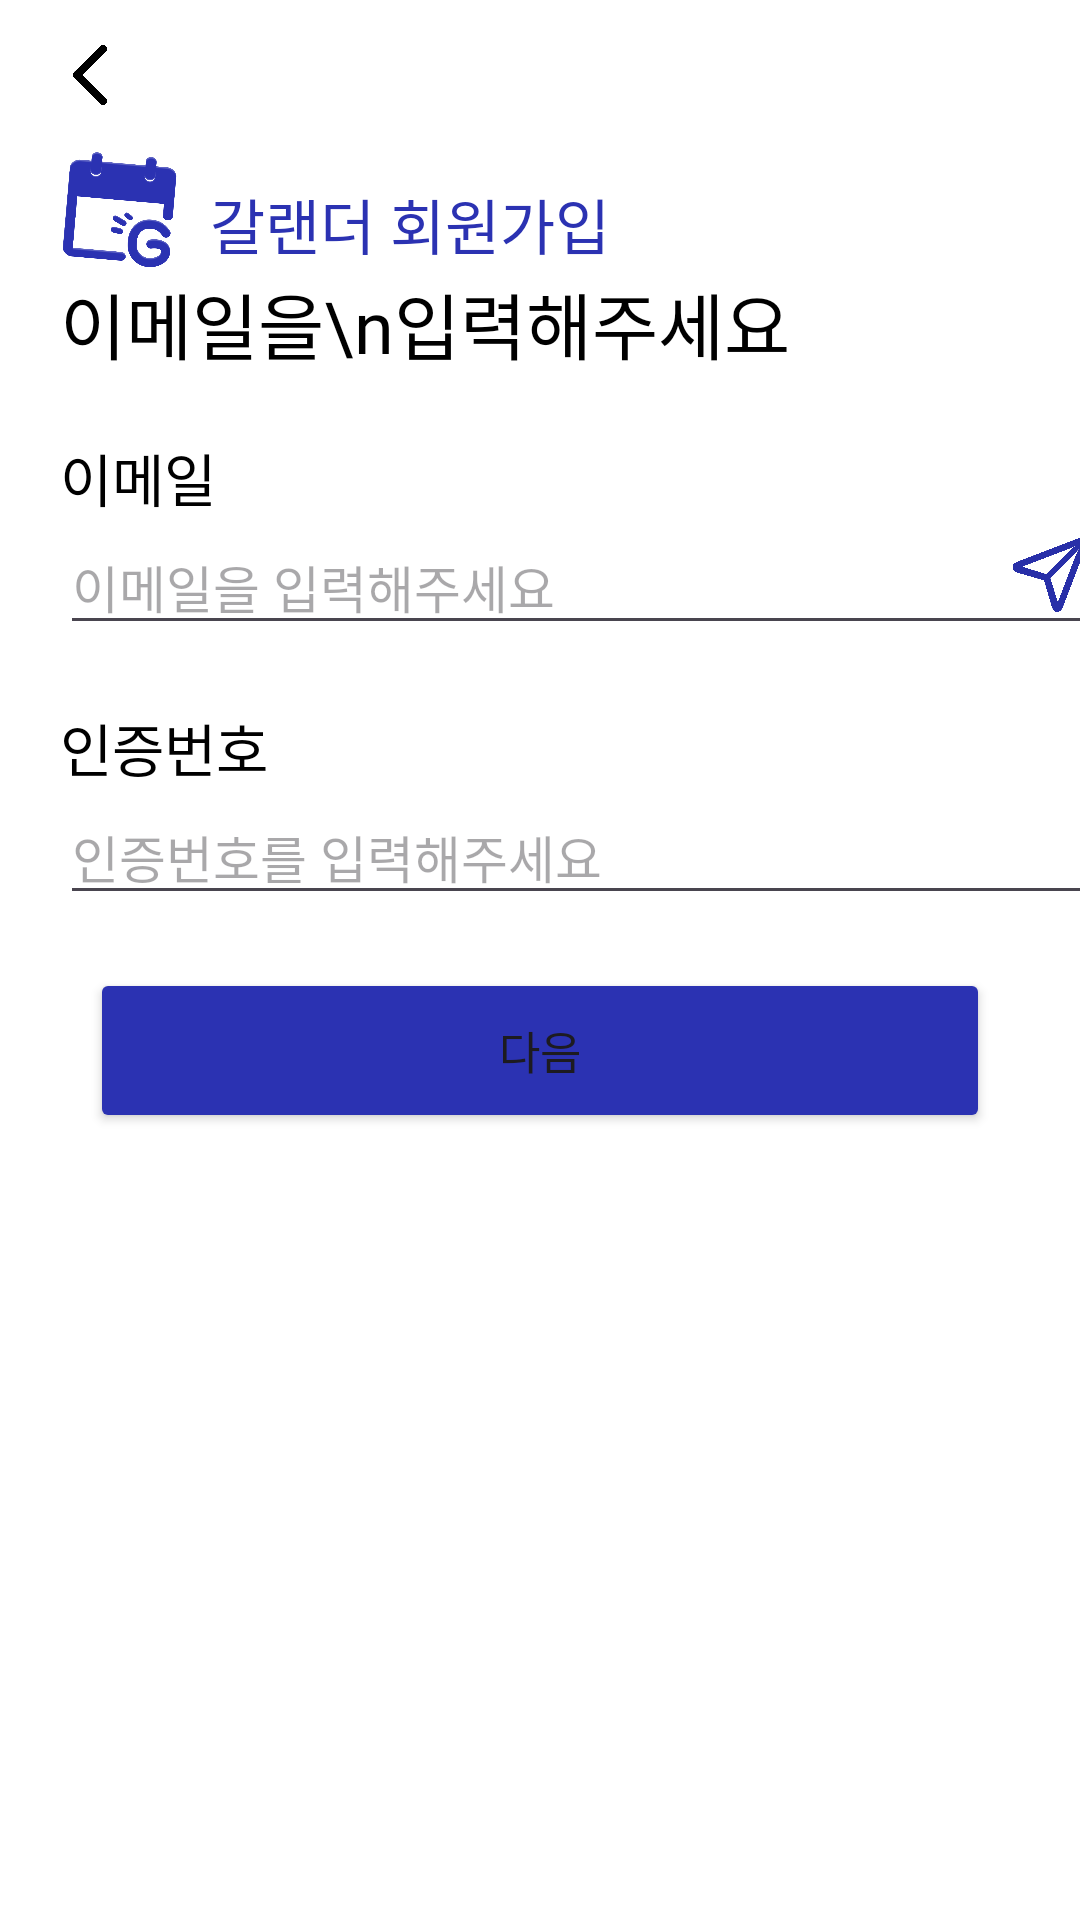

Screen size 1080px×1920px. Icon name, then its box in pixels as (x1, y1, x2, y2):
back: (73, 45, 107, 105)
